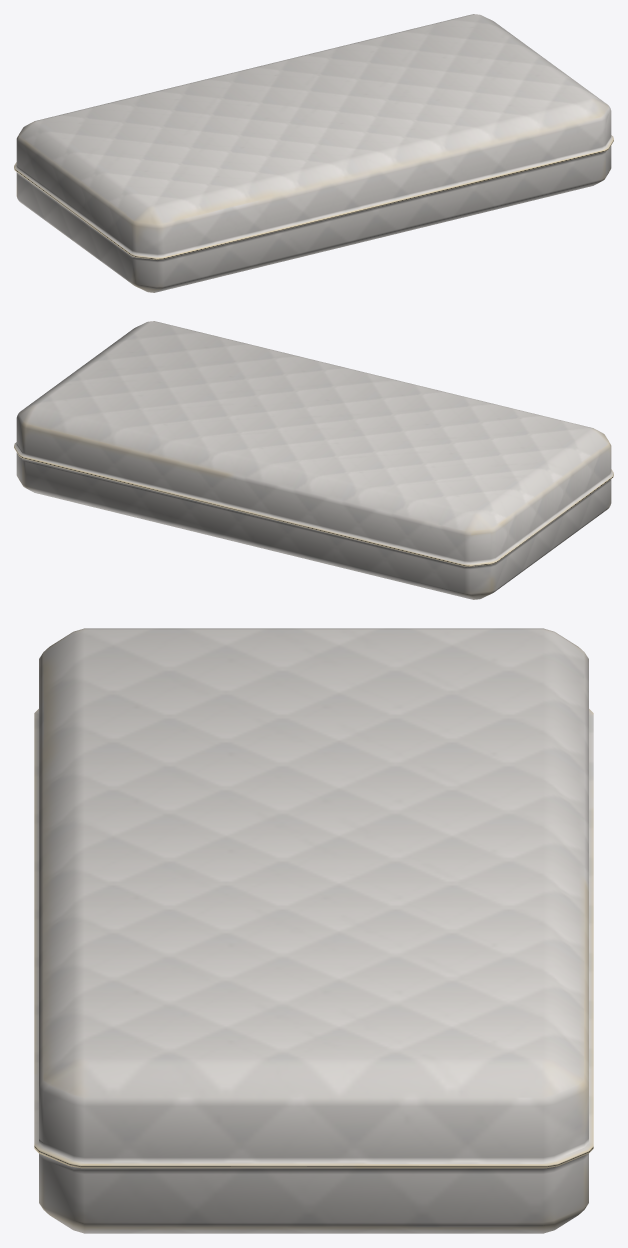
Rendered from mdl_Matratze.fbx.
3 renders of one model, top to bottom at view 1: azimuth 30°, elevation 25°; view 2: azimuth 150°, elevation 25°; view 3: azimuth 270°, elevation 25°, orthographic. The views are drawn at different scales.
Visible parts, largest first — view 1: Matratze.001; view 2: Matratze.001; view 3: Matratze.001.
Boxes of the visible parts, left/top/right/bottom form: Matratze.001: left=14, top=14, right=613, bottom=292; Matratze.001: left=14, top=321, right=613, bottom=599; Matratze.001: left=34, top=628, right=593, bottom=1233.
Size of the model in its own units: 288 by 49.5 by 145.
